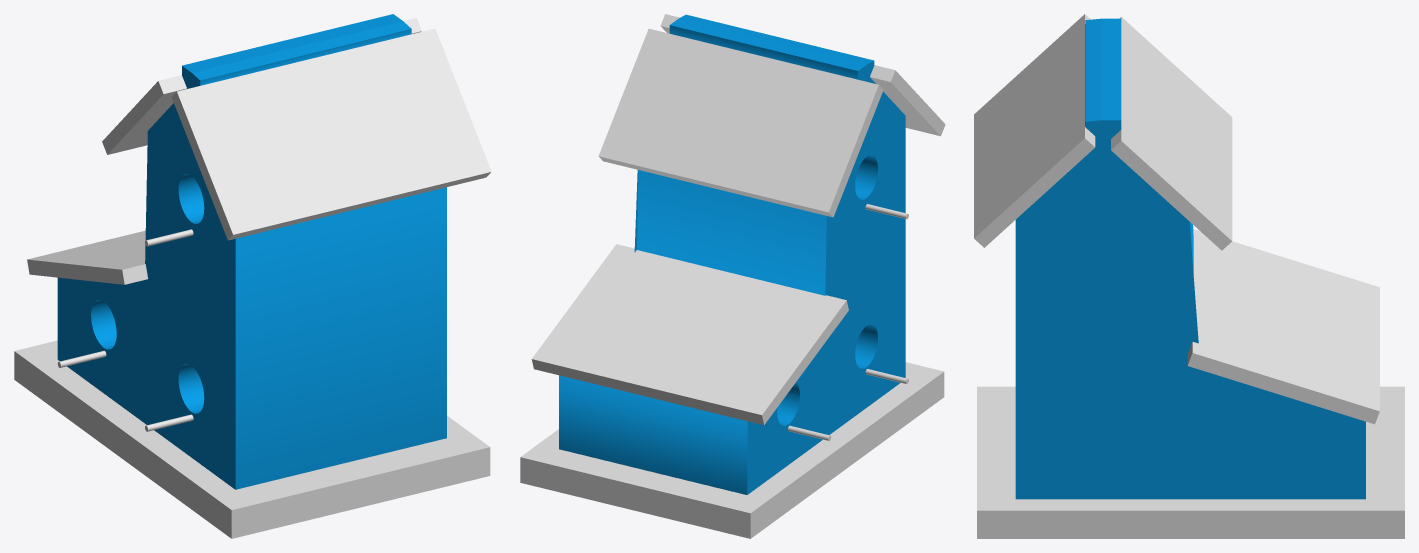
3 renders of one model, left to right at view 1: azimuth 30°, elevation 25°; view 2: azimuth 150°, elevation 25°; view 3: azimuth 270°, elevation 25°, orthographic. The views are drawn at different scales.
Visible parts, largest first — view 1: Cube.004, Cube.002, Cube, Cube.003, Cube.001; view 2: Cube.004, Cube.003, Cube.001, Cube, Cube.002; view 3: Cube.004, Cube.003, Cube, Cube.001, Cube.002.
Boxes of the visible parts, x1=… form: Cube.004: x1=57, y1=14, x2=446, y2=489; Cube.002: x1=171, y1=28, x2=491, y2=240; Cube: x1=14, y1=340, x2=490, y2=538; Cube.003: x1=27, y1=230, x2=147, y2=284; Cube.001: x1=102, y1=17, x2=421, y2=154; Cube.004: x1=559, y1=14, x2=905, y2=494; Cube.003: x1=531, y1=244, x2=848, y2=425; Cube.001: x1=598, y1=28, x2=883, y2=217; Cube: x1=520, y1=362, x2=944, y2=538; Cube.002: x1=660, y1=14, x2=945, y2=136; Cube.004: x1=1015, y1=18, x2=1365, y2=499; Cube.003: x1=1187, y1=229, x2=1379, y2=424; Cube: x1=977, y1=386, x2=1404, y2=538; Cube.001: x1=1111, y1=17, x2=1232, y2=250; Cube.002: x1=974, y1=14, x2=1095, y2=247.
Bounding box in the file's own units: 4.38 × 6.18 × 5.93.
